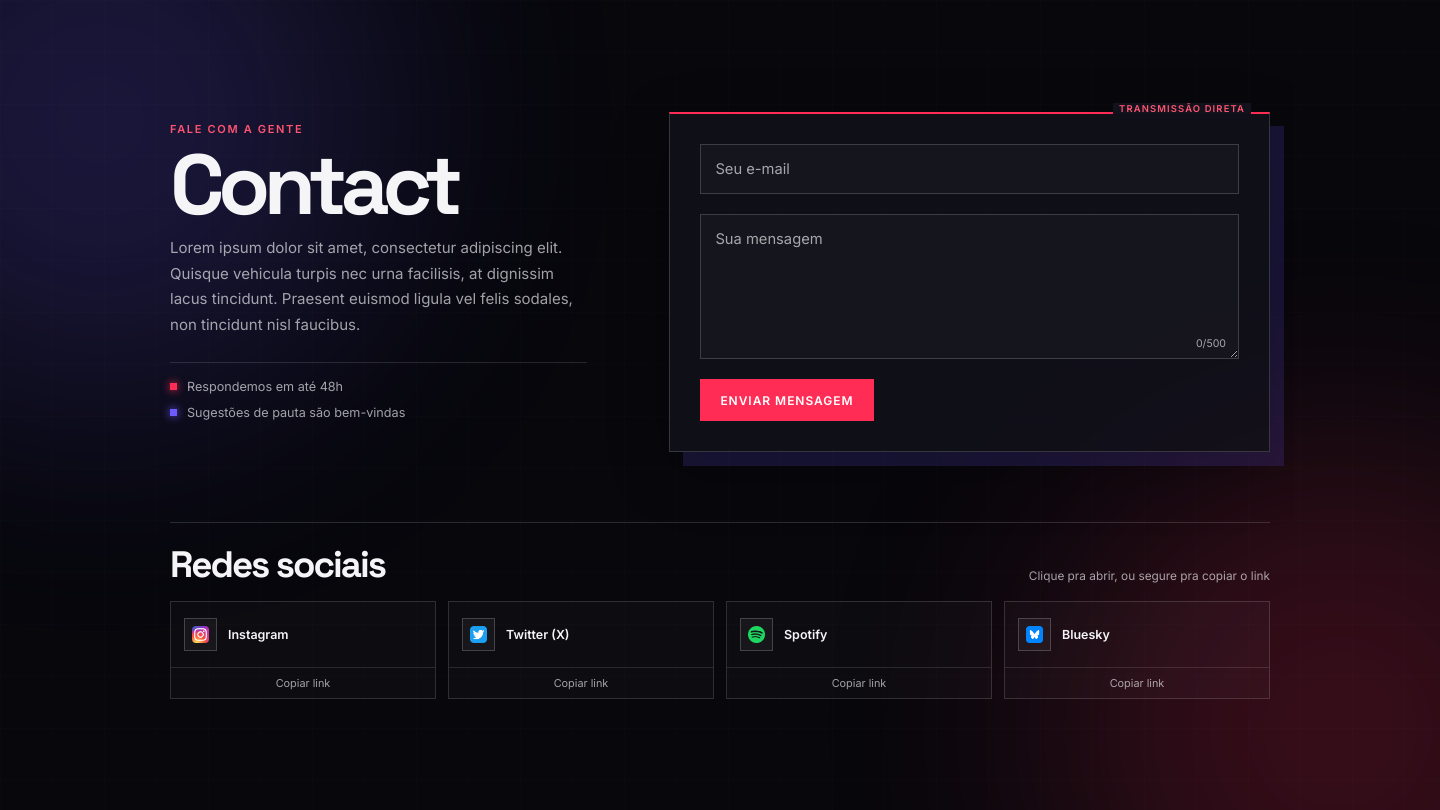
<Contact /> › copia o link da rede social ao clicar em "Copiar link"
The width and height of the screenshot is (1440, 810).
Click the button with aria-label "copiar link do instagram" at (303, 682), box [171,667,435,698]
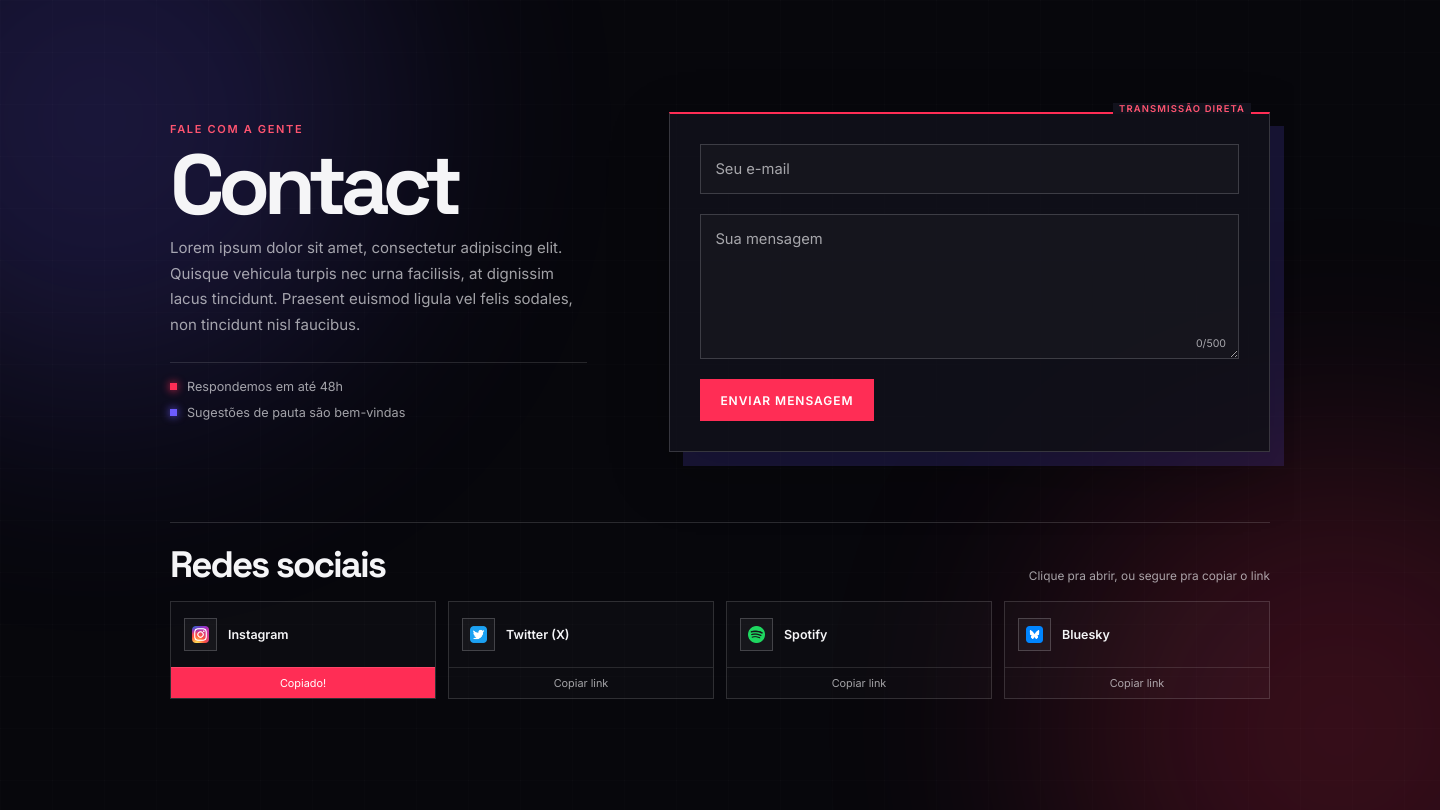
Expected: the button "Copiado!" is shown, [171,667,435,698]
